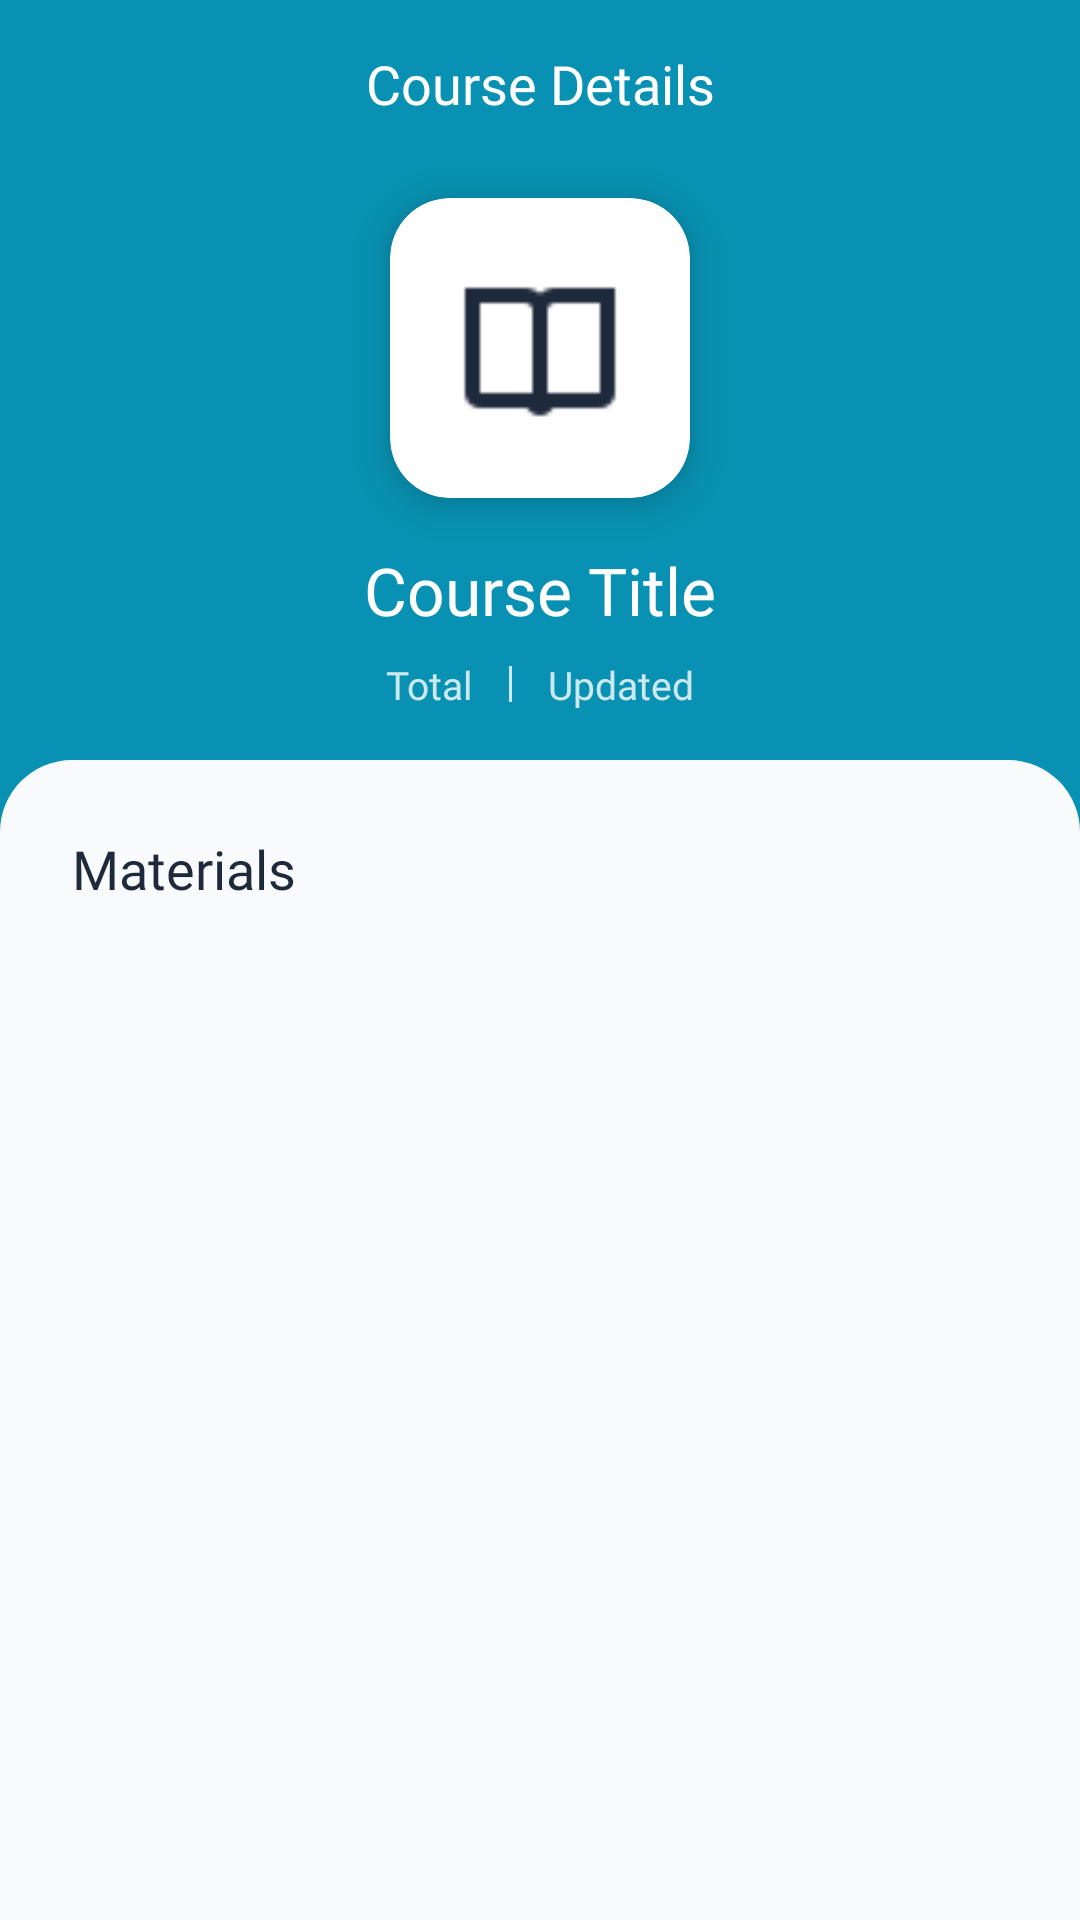

Screen size 1080 × 1920. Icon name, then its center in pixels as [x,y]:
book: [540,352]
